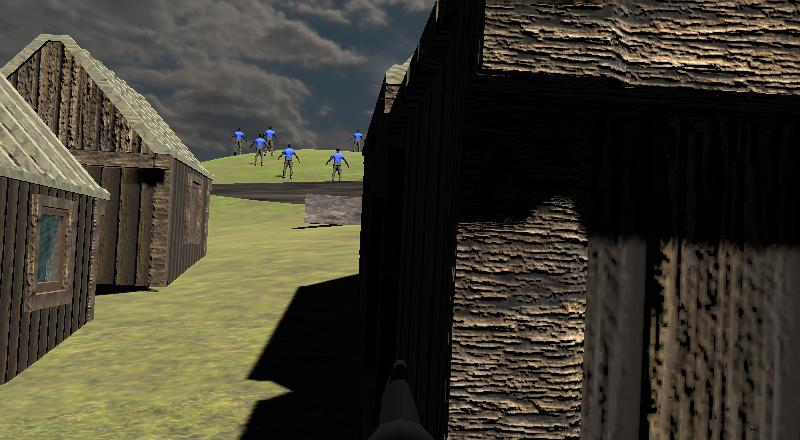House: (369, 0, 800, 440), (1, 32, 217, 304), (0, 24, 106, 422)
Human: (324, 144, 350, 184), (277, 141, 302, 182), (248, 131, 271, 168), (229, 125, 248, 158), (262, 124, 281, 156), (348, 128, 365, 155)
